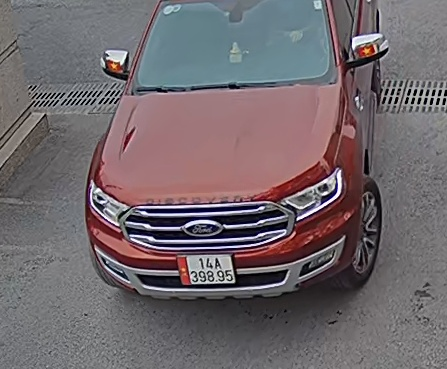vehicle plate: (175, 253, 236, 290)
